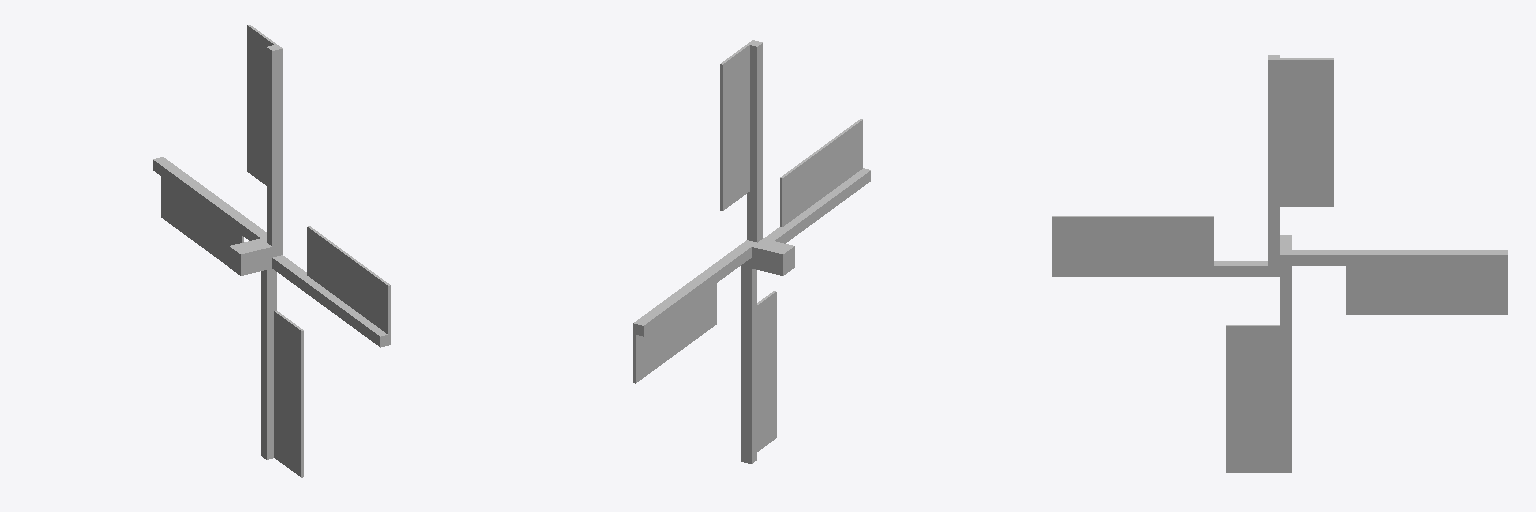
File: windmill.obj
3 views of the same model, side by side, from view 1: azimuth 30°, elevation 25°; view 2: azimuth 150°, elevation 25°; view 3: azimuth 270°, elevation 25° (orthographic).
Parts seen in each view (by area): view 1: Cube_Cube.001; view 2: Cube_Cube.001; view 3: Cube_Cube.001.
Part boxes in pixels (x1,y1,x2,y2): Cube_Cube.001: (153,25,390,477); Cube_Cube.001: (633,40,870,463); Cube_Cube.001: (1052,55,1507,472).
Size of the model in its own units: 0.902 by 8.44 by 8.43.